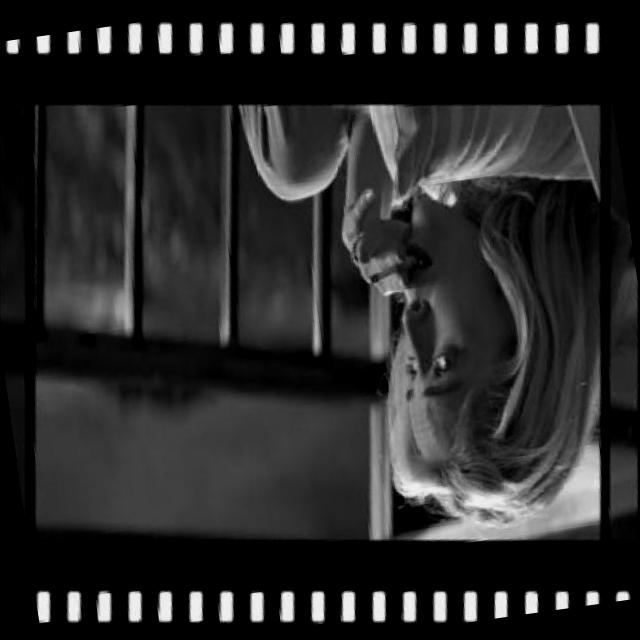cigarette: (368, 243, 427, 290)
